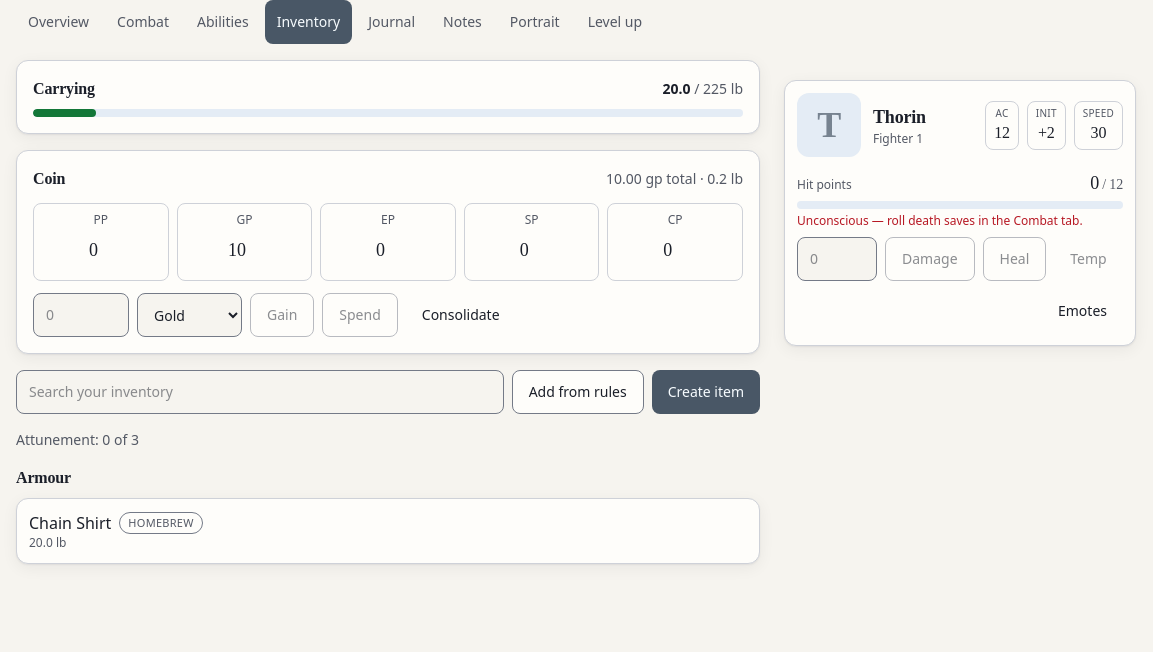
Test: equipping moves the sheet › raises AC when armour is equipped
The width and height of the screenshot is (1153, 652).
Expected: the text "12" is shown, top-left (994, 120), bottom-right (1010, 144)
Click the text "Chain Shirt". click: (70, 523)
box: top-left (29, 511), bottom-right (111, 535)
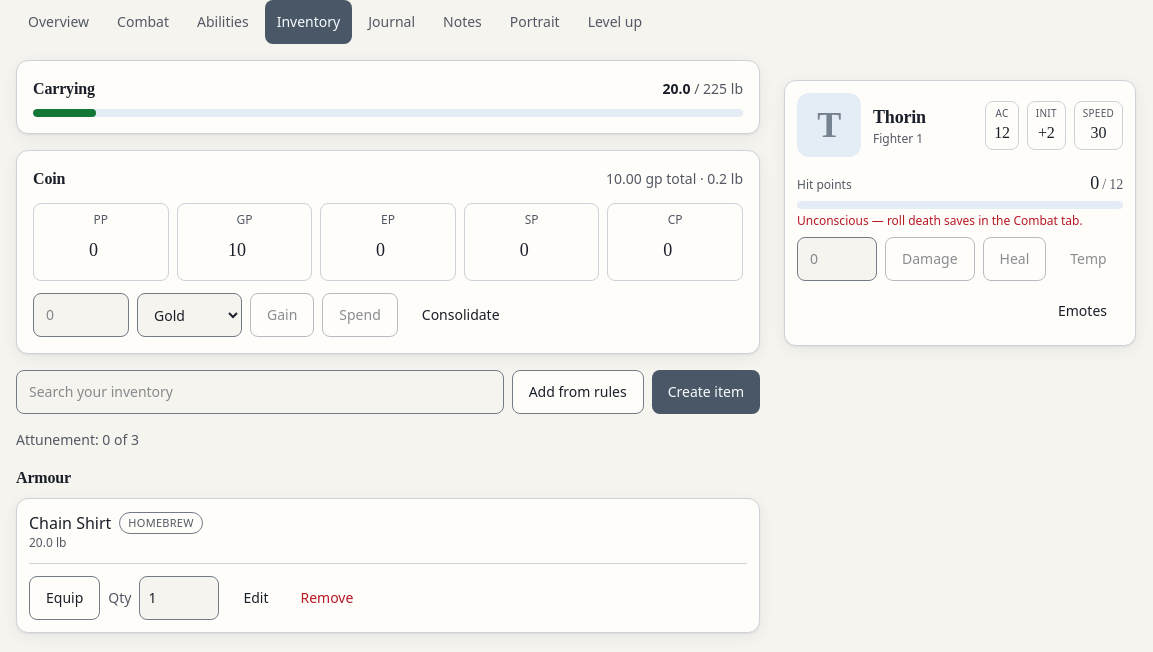
Click the button "Equip". click: (65, 598)
box: top-left (29, 576), bottom-right (100, 620)
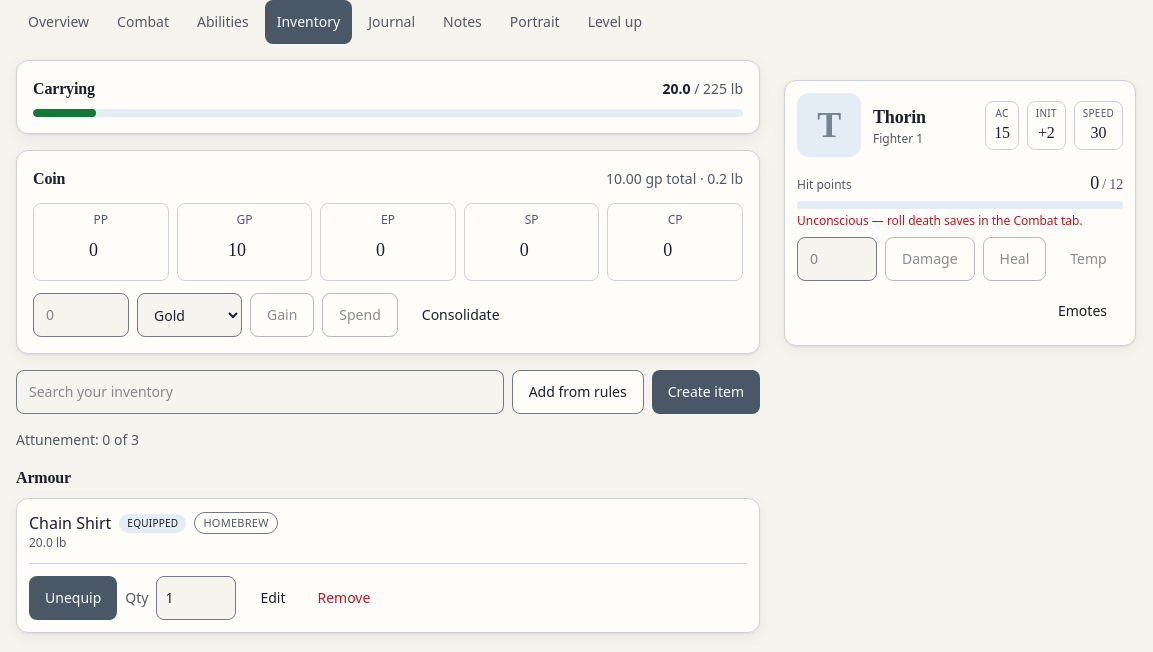
Expected: the text "15" is shown, top-left (994, 120), bottom-right (1010, 144)
